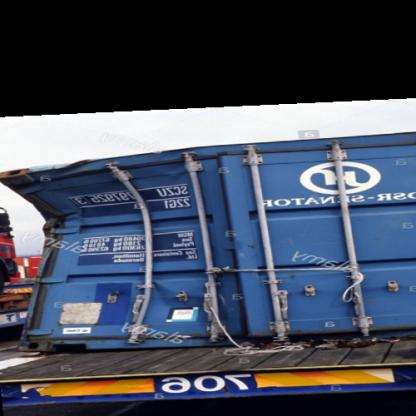Damage: (0, 164, 162, 352)
